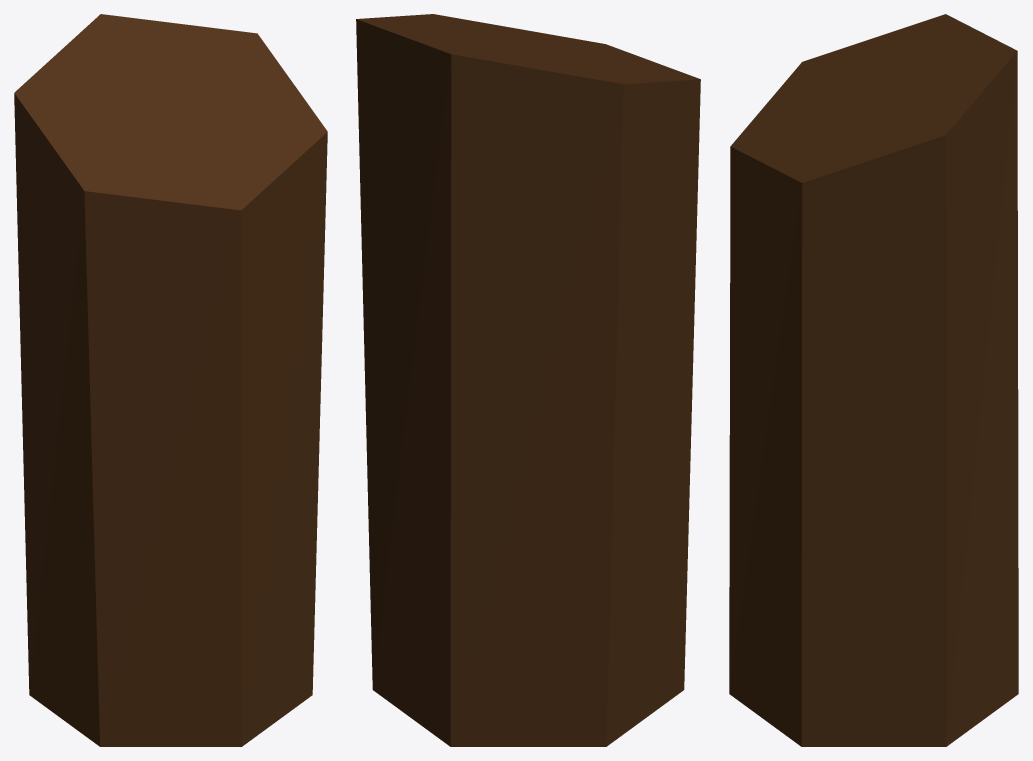
The model's file is tree_trunk.FBX.
3 renders of one model, left to right at view 1: azimuth 30°, elevation 25°; view 2: azimuth 150°, elevation 25°; view 3: azimuth 270°, elevation 25°, orthographic. The views are drawn at different scales.
Visible parts, largest first — view 1: tree_trunk; view 2: tree_trunk; view 3: tree_trunk.
Boxes of the visible parts, x1,y1,x2,y2 form: tree_trunk: (14, 14, 327, 746); tree_trunk: (356, 14, 700, 746); tree_trunk: (729, 14, 1018, 746).
Size of the model in its own units: 16.56 by 40.93 by 16.69.
